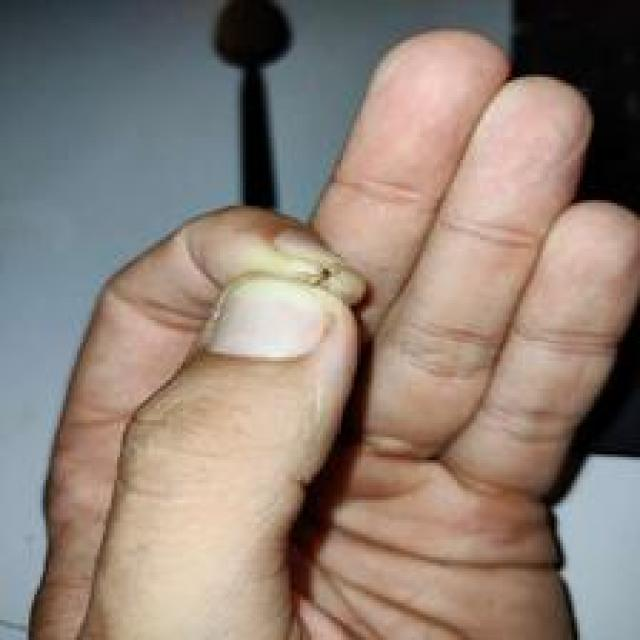Culex: (211, 0, 294, 211)
